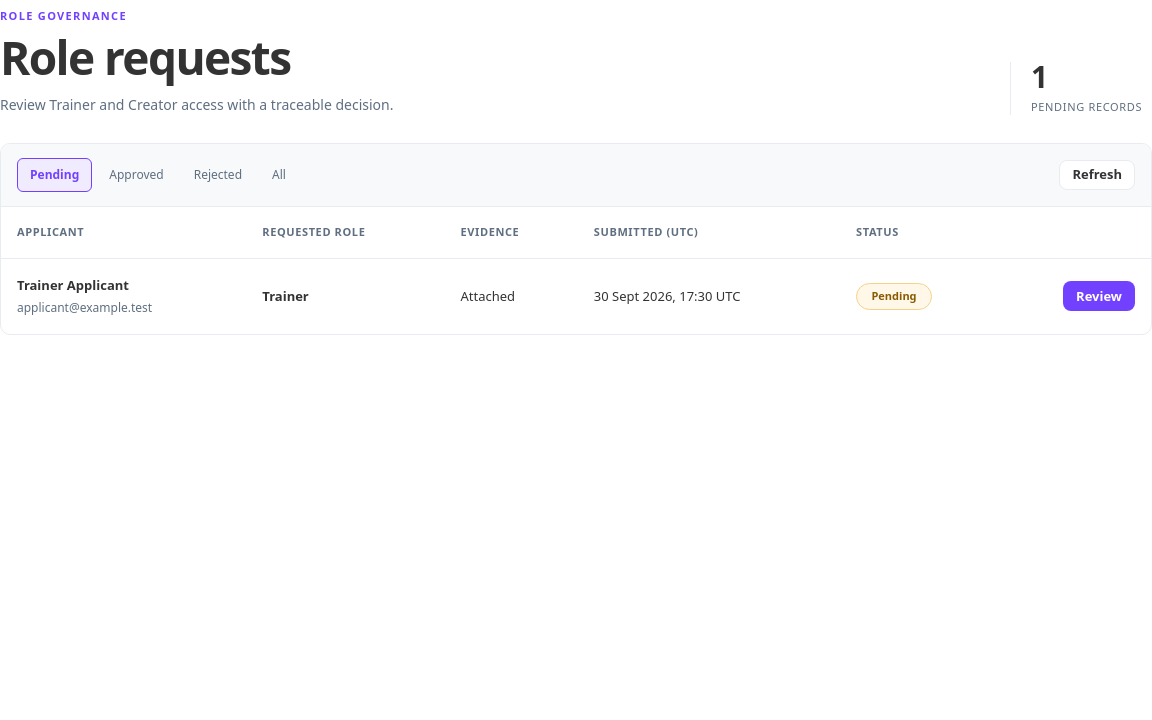
offers only the role evidence file that the request actually declares
The width and height of the screenshot is (1152, 720).
Step 1. Click the button "Review" → click(1099, 296), box left=1063, top=281, right=1135, bottom=311
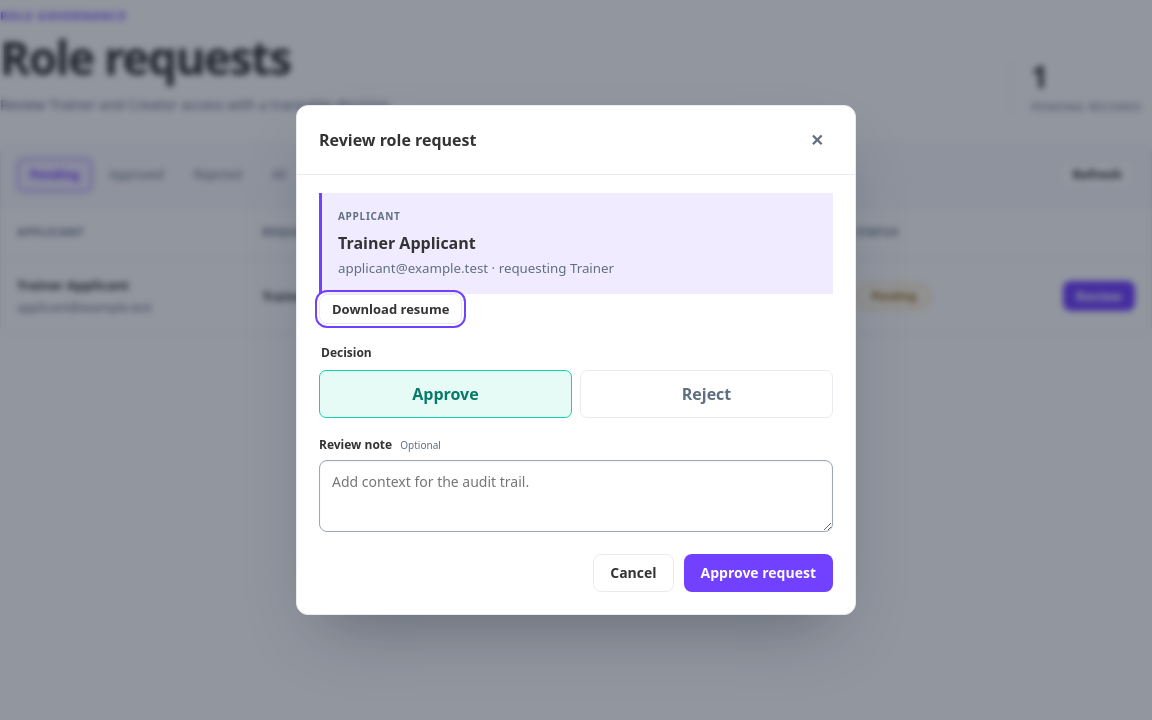
Check: the button "Download resume" is shown, box left=319, top=294, right=462, bottom=324
